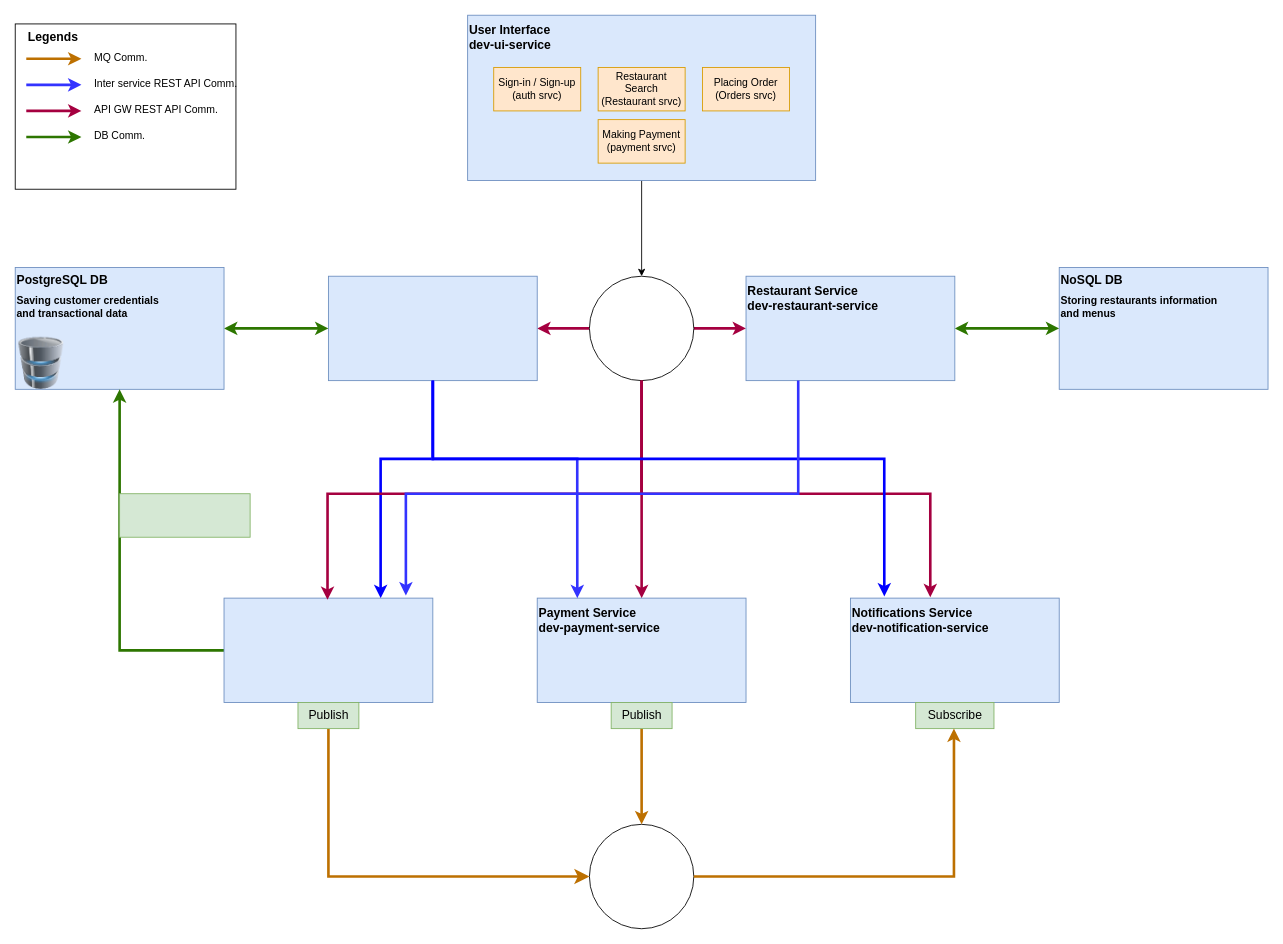
Some shapes in this 1283 by 944 pixel diagram are drawn without their labels. The centre of each missing label's shape, as x and y in pixels:
"API Gateway" goes at (x=641, y=328).
"Authentication Service dev-auth-service" goes at (x=432, y=328).
"MQ Broker" goes at (x=641, y=876).
"Orders Service dev-order-service" goes at (x=328, y=650).
"Storing order history into SQL database" goes at (x=184, y=515).
